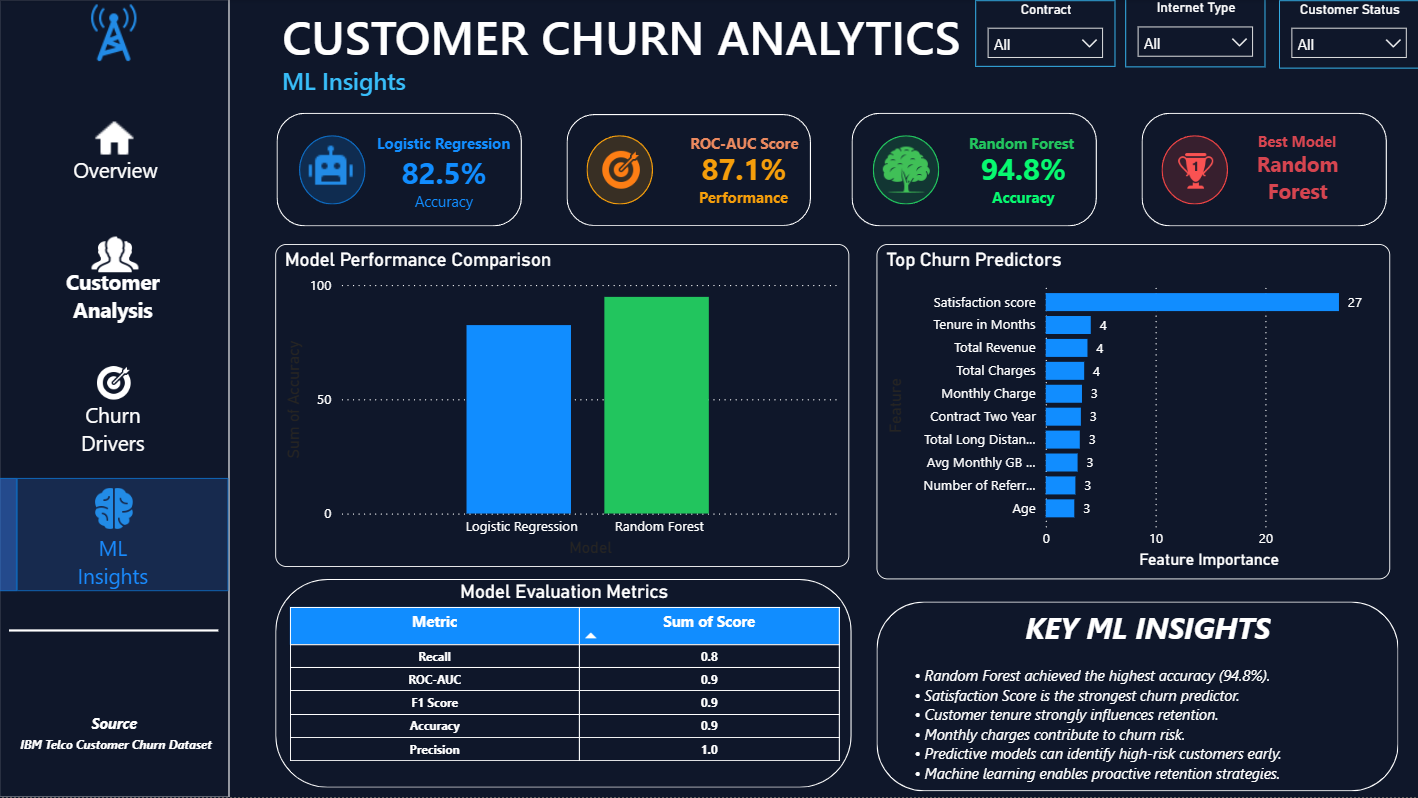

Layout of this report page (visuals, bound fields, positions):
{"tool":"powerbi","page":{"name":"ML Insights","canvas":[1280,720],"ordinal":3},"visuals":[{"type":"clusteredColumnChart","title":"Model Performance Comparison","fields":{"Category":["Model_Performance.Model"],"Y":["Sum(Model_Performance.Accuracy)"]},"box":[249.5,221.3,517.3,291],"z":0},{"type":"clusteredBarChart","title":"Top Churn Predictors","fields":{"Category":["Feature_Importance.Feature"],"Y":["Sum(Feature_Importance.Importance)"]},"box":[791.2,221.3,463.5,302],"z":1000},{"type":"shape","box":[0,0,207.9,720.2],"z":2000},{"type":"textbox","box":[51.2,237.5,103.8,306.2],"z":3000},{"type":"image","box":[70,0,67.5,61.2],"z":4000},{"type":"textbox","box":[0,639.5,207.9,45.2],"z":5000},{"type":"shape","box":[8.8,538.8,188.8,61.2],"z":7000},{"type":"image","box":[73.8,102.5,61.2,47.5],"z":8000},{"type":"shape","box":[16.2,431.2,191.2,102.5],"z":9000},{"type":"shape","box":[0,431.2,16.2,102.5],"z":10000},{"type":"textbox","box":[52.5,136.2,103.8,35],"z":11000},{"type":"textbox","box":[250,0,672.5,62.5],"z":12000},{"type":"textbox","box":[250,53.8,202.5,40],"z":13000},{"type":"slicer","title":"Contract","fields":{"Values":["telco.Contract"]},"box":[880,1.2,126.2,60],"z":14000},{"type":"slicer","title":"Internet Type","fields":{"Values":["telco.Internet Type"]},"box":[1015,0,126.2,61.2],"z":15000},{"type":"slicer","title":"Customer Status","fields":{"Values":["telco.Customer Status"]},"box":[1153.8,1.2,126.2,61.2],"z":16000},{"type":"image","box":[77.5,205,53.8,52.5],"z":17000},{"type":"image","box":[82.5,320,42.5,52.5],"z":18000},{"type":"image","box":[67.5,436.2,72.5,46.2],"z":19000},{"type":"shape","box":[250,102.5,221.2,102.5],"z":20000},{"type":"shape","box":[511.8,103.2,220.5,101.1],"z":21000},{"type":"shape","box":[768.8,102.5,221.2,102.5],"z":22000},{"type":"shape","box":[1030,102.5,221.2,102.5],"z":23000},{"type":"shape","box":[270,122.5,60,62.5],"z":24000},{"type":"shape","box":[530,122.5,60,62.5],"z":25000},{"type":"shape","box":[787.5,122.5,60,62.5],"z":26000},{"type":"shape","box":[1048.8,122.5,60,62.5],"z":27000},{"type":"textbox","box":[330,116.2,141.2,33.8],"z":28000},{"type":"textbox","box":[854.3,116.4,135.3,28.3],"z":29000},{"type":"textbox","box":[612.5,116.2,120,28.8],"z":30000},{"type":"textbox","box":[1115.2,113.7,111.3,34.2],"z":31000},{"type":"textbox","box":[329.7,133.5,141.6,66.8],"z":32000},{"type":"textbox","box":[619,129.5,105.2,76.9],"z":33000},{"type":"textbox","box":[867.8,129.5,111.3,66.8],"z":34000},{"type":"textbox","box":[1100.5,130.8,141.8,61.1],"z":35000},{"type":"image","box":[236,127.2,127.2,52.6],"z":36000},{"type":"image","box":[498.9,130.8,123.5,46.5],"z":37000},{"type":"image","box":[753.3,127.2,130.8,52.6],"z":38000},{"type":"image","box":[1010.1,133.3,138.2,44],"z":39000},{"type":"shape","box":[791.2,542.9,470.8,171.2],"z":40000},{"type":"textbox","box":[820.5,542.9,430.4,168.8],"z":41000},{"type":"shape","box":[249.5,523.4,519.7,188.3],"z":42000},{"type":"tableEx","title":"Model Evaluation Metrics","fields":{"Values":["Model Metrics.Metric","Sum(Model Metrics.Score)"]},"box":[255.6,524.6,507.5,185.9],"z":43000}]}

Visuals, with their boxes in screenshot pixels (x1, y1, x2, y2), scaled from the page's 1280x720 canvas onto the 1418x798 screenshot:
"Model Performance Comparison" clusteredColumnChart: 276, 245, 849, 568
"Top Churn Predictors" clusteredBarChart: 877, 245, 1390, 580
shape: 0, 0, 230, 797
textbox: 57, 263, 172, 603
image: 78, 0, 152, 68
textbox: 0, 709, 230, 759
shape: 10, 597, 219, 665
image: 82, 114, 150, 166
shape: 18, 478, 230, 592
shape: 0, 478, 18, 592
textbox: 58, 151, 173, 190
textbox: 277, 0, 1022, 69
textbox: 277, 60, 501, 104
"Contract" slicer: 975, 1, 1115, 68
"Internet Type" slicer: 1124, 0, 1264, 68
"Customer Status" slicer: 1278, 1, 1417, 69
image: 86, 227, 145, 285
image: 91, 355, 138, 413
image: 75, 483, 155, 535
shape: 277, 114, 522, 227
shape: 567, 114, 811, 226
shape: 852, 114, 1097, 227
shape: 1141, 114, 1386, 227
shape: 299, 136, 366, 205
shape: 587, 136, 654, 205
shape: 872, 136, 939, 205
shape: 1162, 136, 1228, 205
textbox: 366, 129, 522, 166
textbox: 946, 129, 1096, 160
textbox: 679, 129, 811, 161
textbox: 1235, 126, 1359, 164
textbox: 365, 148, 522, 222
textbox: 686, 144, 802, 229
textbox: 961, 144, 1085, 218
textbox: 1219, 145, 1376, 213
image: 261, 141, 402, 199
image: 553, 145, 690, 197
image: 835, 141, 979, 199
image: 1119, 148, 1272, 197
shape: 877, 602, 1398, 791
textbox: 909, 602, 1386, 789
shape: 276, 580, 852, 789
"Model Evaluation Metrics" tableEx: 283, 581, 845, 787
